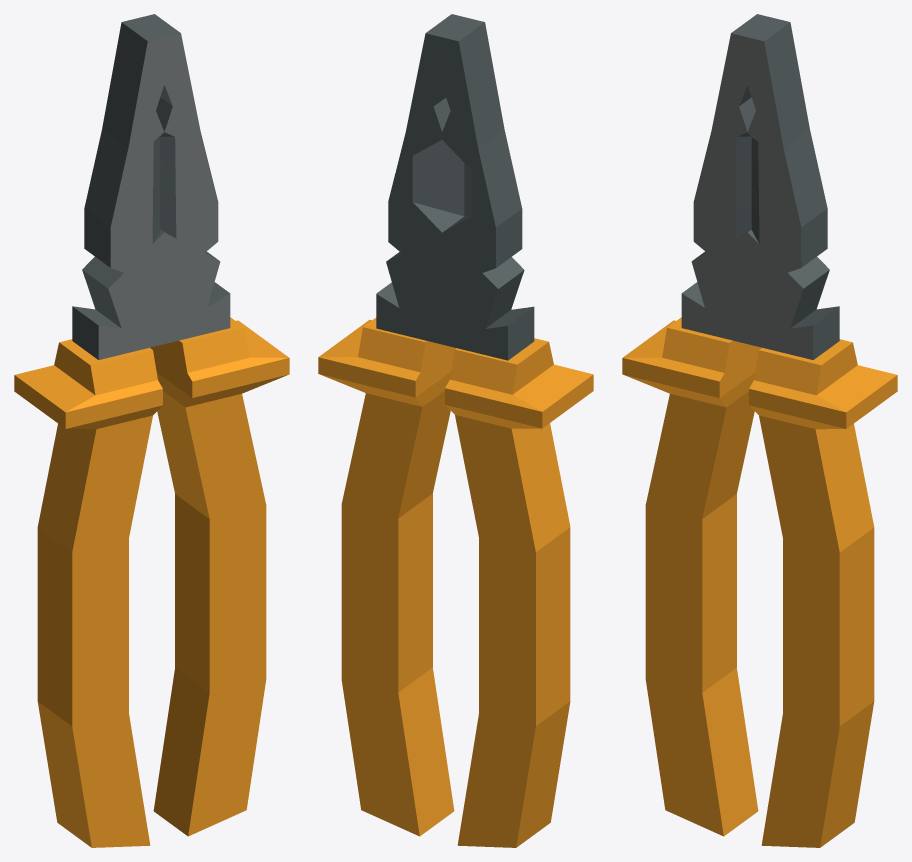
File: SM_Pliers_L.fbx
3 views of the same model, side by side, from view 1: azimuth 30°, elevation 25°; view 2: azimuth 150°, elevation 25°; view 3: azimuth 330°, elevation 25° (orthographic).
Parts seen in each view (by area): view 1: SM_Pliers_L, SM_Pliers_R; view 2: SM_Pliers_R, SM_Pliers_L; view 3: SM_Pliers_L, SM_Pliers_R.
Part boxes in pixels (<box>): SM_Pliers_L: <box>14,14,220,847</box>; SM_Pliers_R: <box>82,18,289,836</box>; SM_Pliers_R: <box>318,18,522,836</box>; SM_Pliers_L: <box>388,14,593,847</box>; SM_Pliers_L: <box>622,18,827,836</box>; SM_Pliers_R: <box>693,14,897,847</box>.
Bounding box in the file's own units: 11.29 × 38.58 × 4.48.
